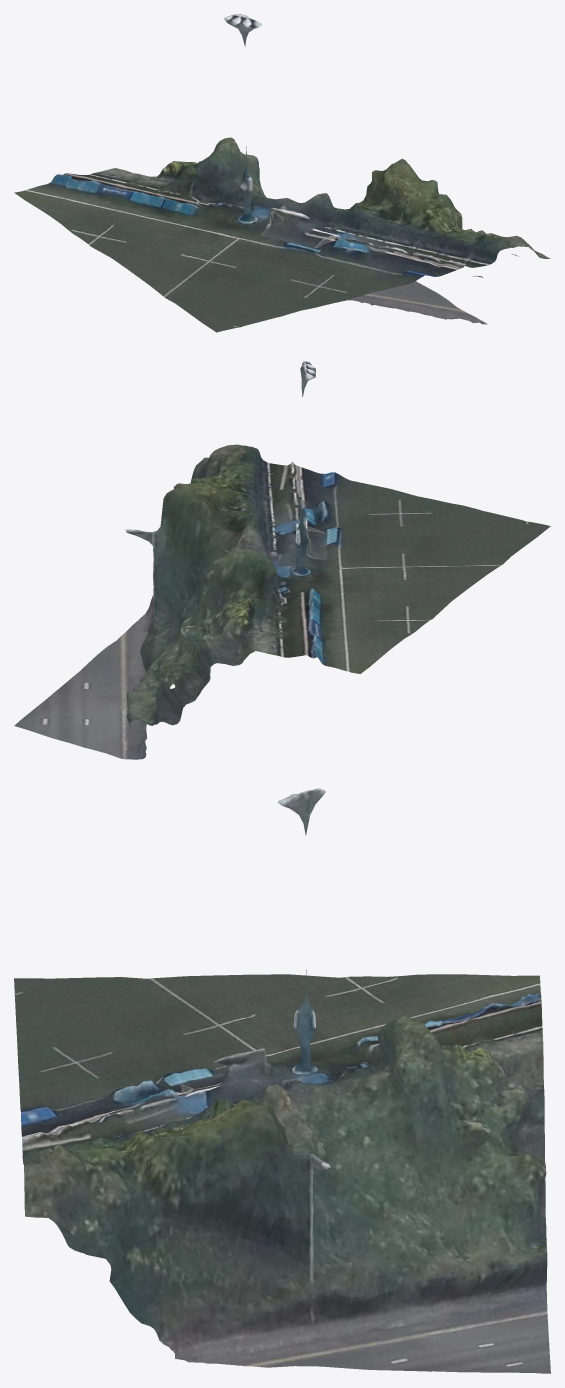
The model's file is Tile_+011_+008_L21_0000000300.glb.
3 views of the same model, one above another, from view 1: azimuth 30°, elevation 25°; view 2: azimuth 150°, elevation 25°; view 3: azimuth 270°, elevation 25° (orthographic). The views are drawn at different scales.
Visible parts, largest first — view 1: rtc; view 2: rtc; view 3: rtc.
Part boxes in pixels (bbox=[...]): rtc: bbox=[14, 14, 550, 332]; rtc: bbox=[14, 361, 550, 759]; rtc: bbox=[14, 788, 550, 1373].
Bounding box in the file's own units: 32.01 × 30.54 × 32.01.
Materials: 1 (1 with a texture image).
